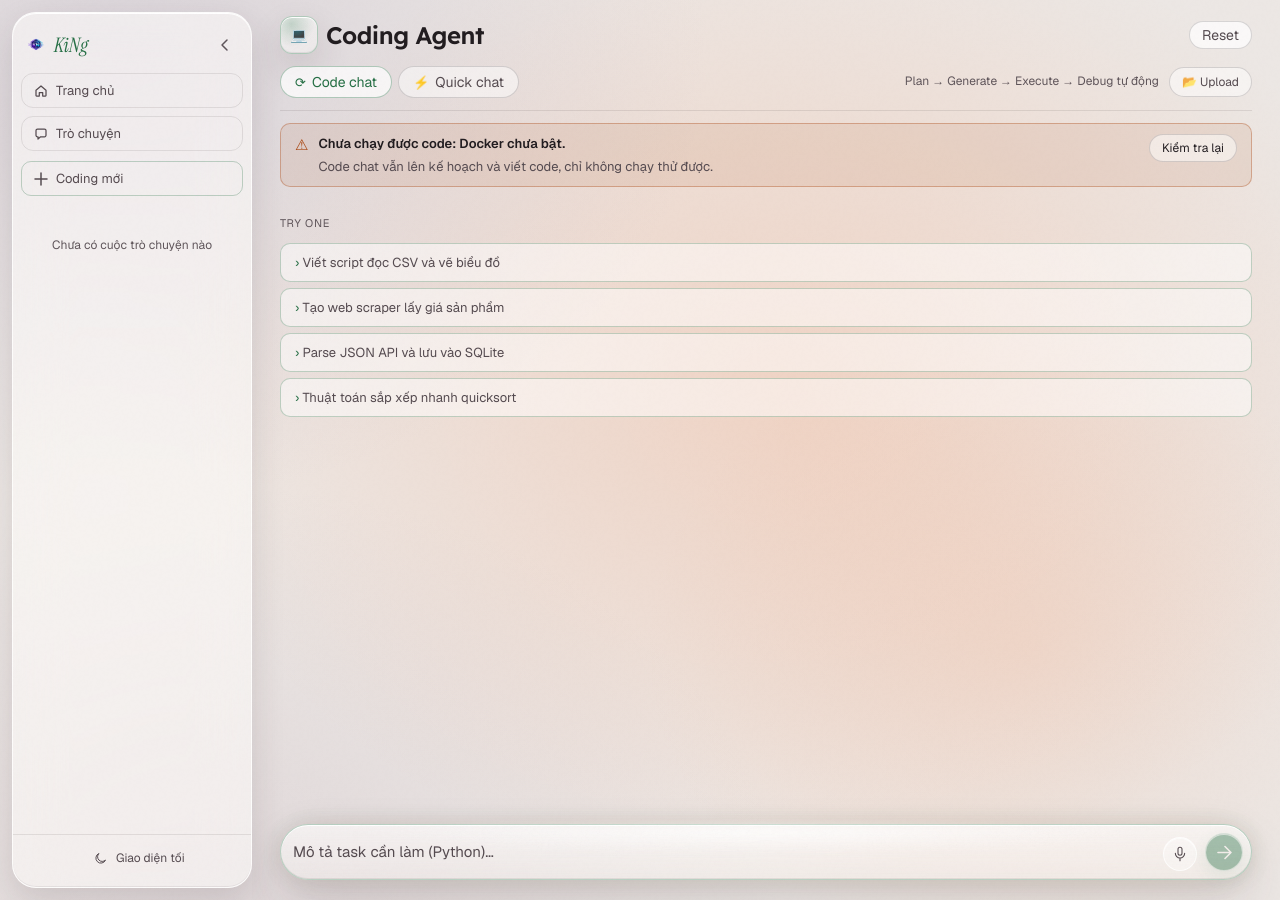
Test case: Coding page — sandbox status › checks again on request and drops the warning once Docker is up
Click the button "Kiểm tra lại" at (1193, 148), box left=1149, top=134, right=1237, bottom=162
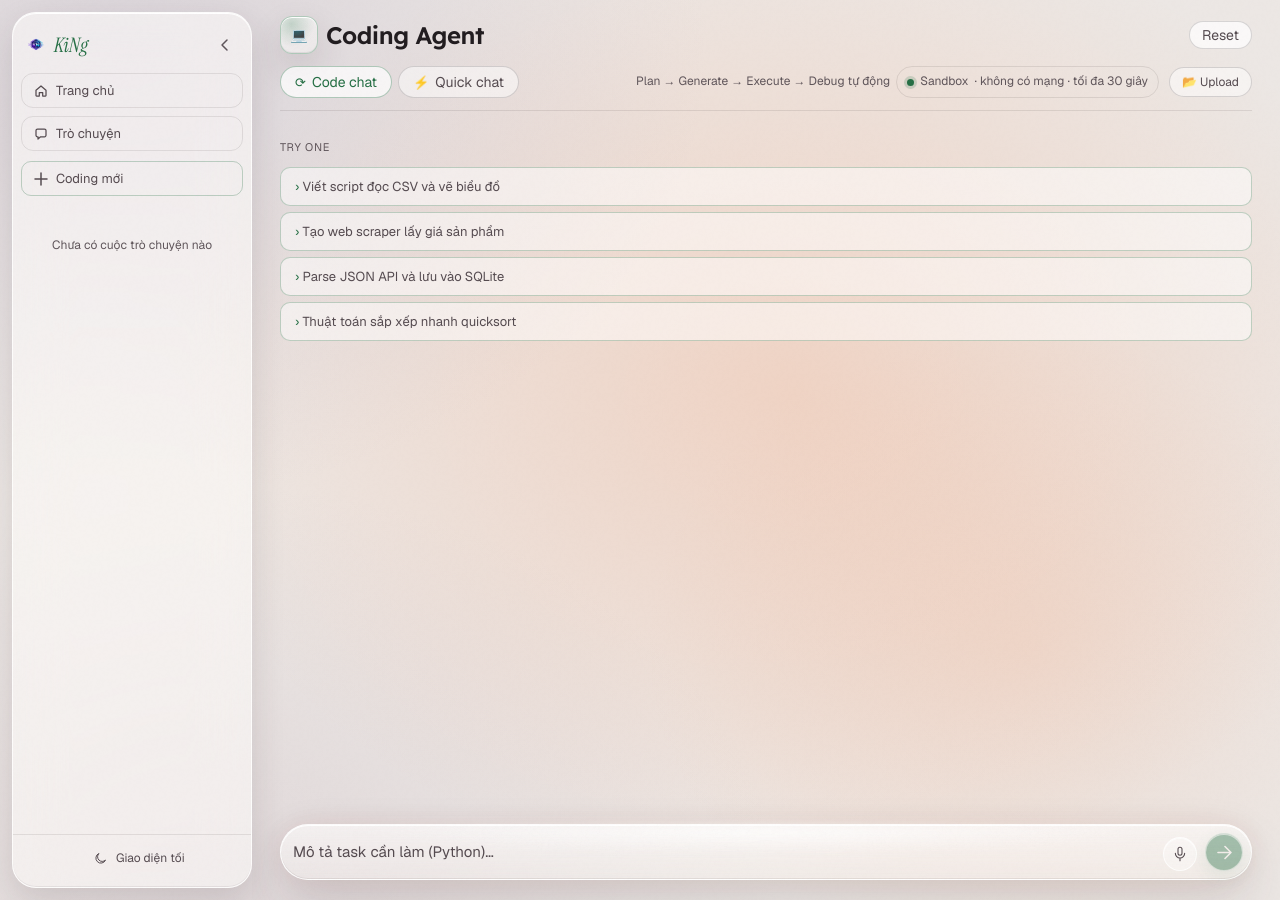
Check: the text "Sandbox" is shown, box left=920, top=73, right=968, bottom=89
Check: the text "Docker chưa bật" is gone
